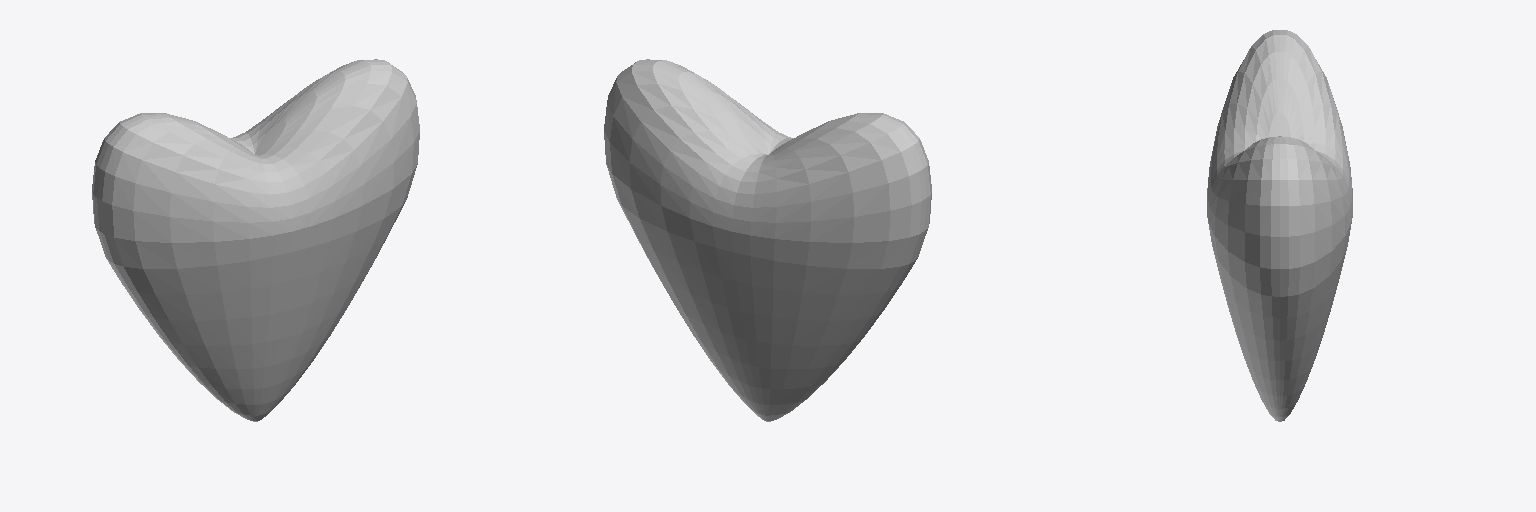
The model's file is corazon.obj.
3 renders of one model, left to right at view 1: azimuth 30°, elevation 25°; view 2: azimuth 150°, elevation 25°; view 3: azimuth 270°, elevation 25°, orthographic.
Visible parts, largest first — view 1: SurfSphere; view 2: SurfSphere; view 3: SurfSphere.
Part boxes in pixels (x1,y1,x2,y2): SurfSphere: (92,59,419,421); SurfSphere: (604,59,931,421); SurfSphere: (1207,30,1352,421).
Size of the model in its own units: 0.25 by 0.25 by 0.1.